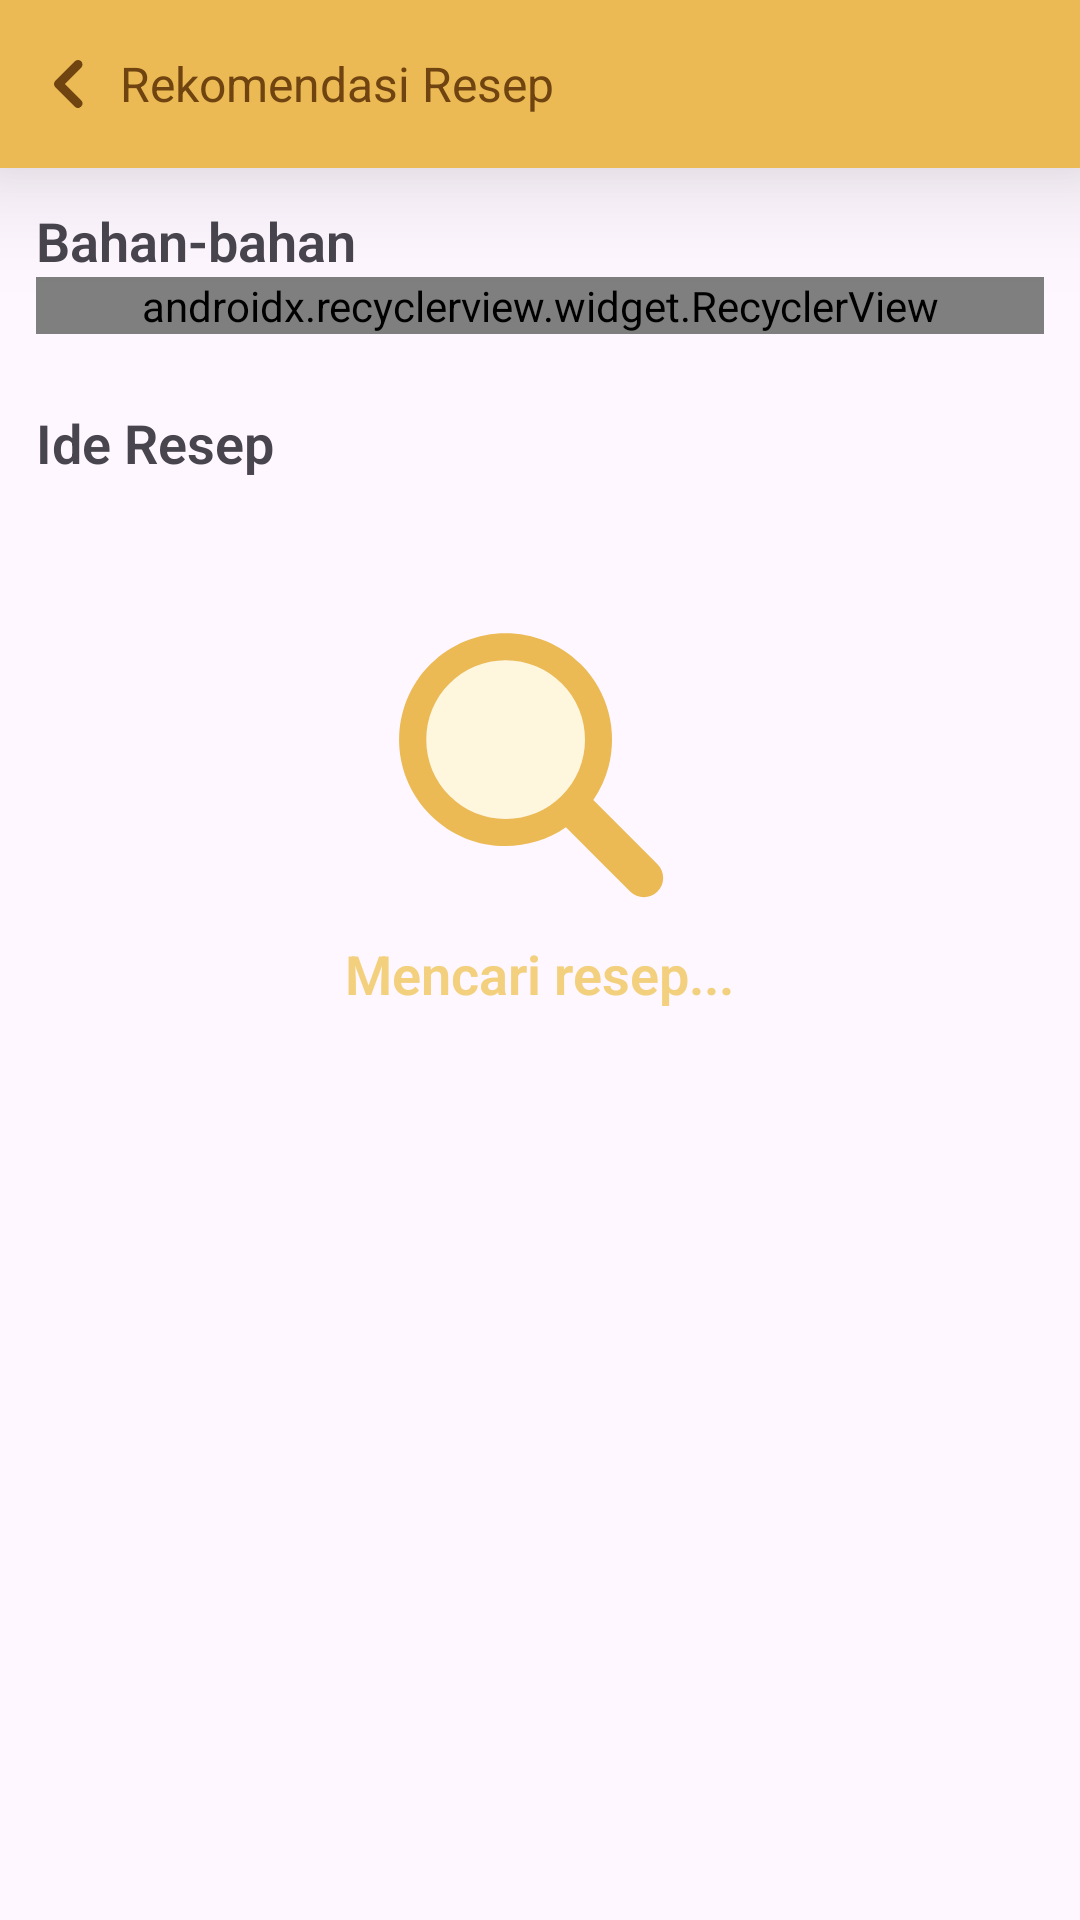

Point at icon controls on the screen. Image size 1080*1920, points as [x,y].
back button: [68,84]
search animation: [531,798]
